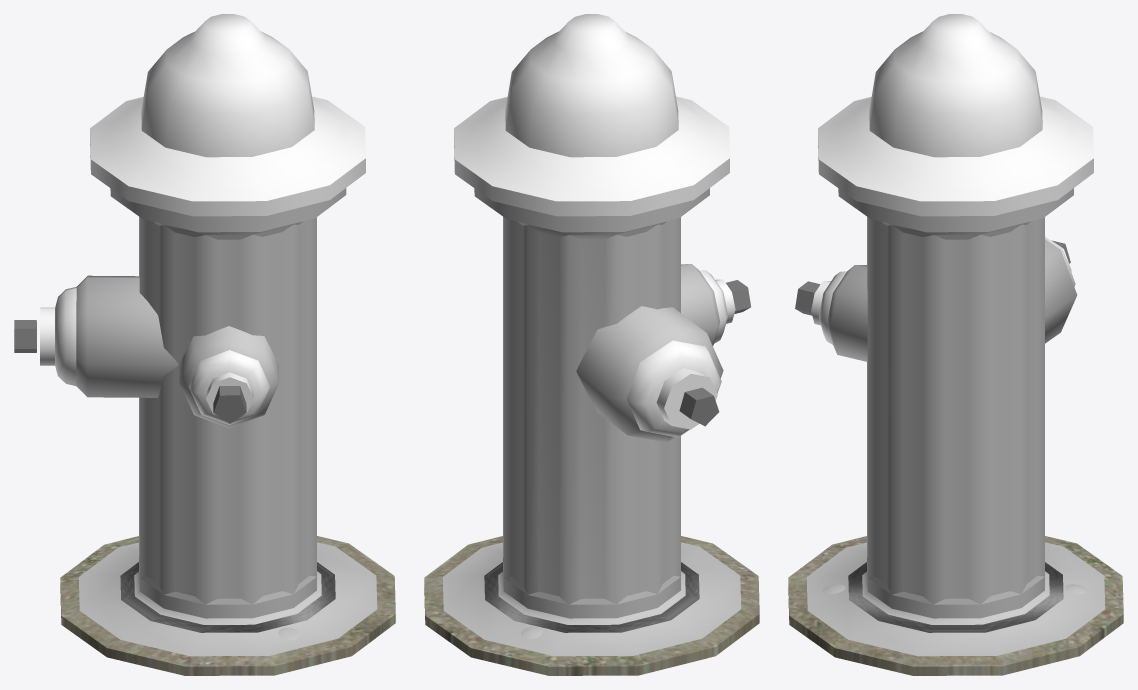
The picture shows the model from 3 angles, left to right: view 1: azimuth 30°, elevation 25°; view 2: azimuth 150°, elevation 25°; view 3: azimuth 270°, elevation 25°; orthographic projection.
Parts seen in each view (by area): view 1: Joint_0_Object_3, Joint_0_Object_4, Joint_0_Object_0, Joint_0_Object_1, Joint_0_Object_10, Joint_0_Object_11, Joint_0_Object_12, Joint_0_Object_13, Joint_0_Object_2, Joint_0_Object_9, Joint_0_Object_5; view 2: Joint_0_Object_3, Joint_0_Object_4, Joint_0_Object_0, Joint_0_Object_1, Joint_0_Object_10, Joint_0_Object_9, Joint_0_Object_13, Joint_0_Object_2, Joint_0_Object_11, Joint_0_Object_5, Joint_0_Object_12; view 3: Joint_0_Object_3, Joint_0_Object_4, Joint_0_Object_0, Joint_0_Object_1, Joint_0_Object_13, Joint_0_Object_11, Joint_0_Object_2, Joint_0_Object_10, Joint_0_Object_12, Joint_0_Object_5.
Boxes of the visible parts, x1=… form: Joint_0_Object_3: x1=139, y1=216, x2=316, y2=618; Joint_0_Object_4: x1=90, y1=14, x2=365, y2=216; Joint_0_Object_0: x1=78, y1=542, x2=377, y2=656; Joint_0_Object_1: x1=60, y1=536, x2=395, y2=675; Joint_0_Object_10: x1=76, y1=275, x2=178, y2=397; Joint_0_Object_11: x1=179, y1=326, x2=279, y2=428; Joint_0_Object_12: x1=188, y1=350, x2=270, y2=425; Joint_0_Object_13: x1=110, y1=188, x2=346, y2=232; Joint_0_Object_2: x1=120, y1=562, x2=335, y2=632; Joint_0_Object_9: x1=40, y1=287, x2=76, y2=385; Joint_0_Object_5: x1=14, y1=320, x2=246, y2=423; Joint_0_Object_3: x1=503, y1=217, x2=680, y2=618; Joint_0_Object_4: x1=454, y1=14, x2=729, y2=216; Joint_0_Object_0: x1=442, y1=542, x2=741, y2=656; Joint_0_Object_1: x1=424, y1=536, x2=759, y2=675; Joint_0_Object_10: x1=576, y1=306, x2=723, y2=442; Joint_0_Object_9: x1=627, y1=340, x2=721, y2=437; Joint_0_Object_13: x1=474, y1=188, x2=709, y2=232; Joint_0_Object_2: x1=484, y1=562, x2=699, y2=632; Joint_0_Object_11: x1=681, y1=264, x2=719, y2=345; Joint_0_Object_5: x1=679, y1=280, x2=750, y2=426; Joint_0_Object_12: x1=699, y1=270, x2=735, y2=343; Joint_0_Object_3: x1=867, y1=217, x2=1044, y2=618; Joint_0_Object_4: x1=818, y1=14, x2=1093, y2=216; Joint_0_Object_0: x1=806, y1=542, x2=1105, y2=656; Joint_0_Object_1: x1=788, y1=536, x2=1123, y2=675; Joint_0_Object_13: x1=838, y1=188, x2=1073, y2=232; Joint_0_Object_11: x1=827, y1=265, x2=867, y2=361; Joint_0_Object_2: x1=848, y1=562, x2=1063, y2=632; Joint_0_Object_10: x1=1045, y1=239, x2=1077, y2=343; Joint_0_Object_12: x1=811, y1=271, x2=846, y2=344; Joint_0_Object_5: x1=795, y1=240, x2=1070, y2=315.
Bounding box in the file's own units: 579 × 1019 × 533.
